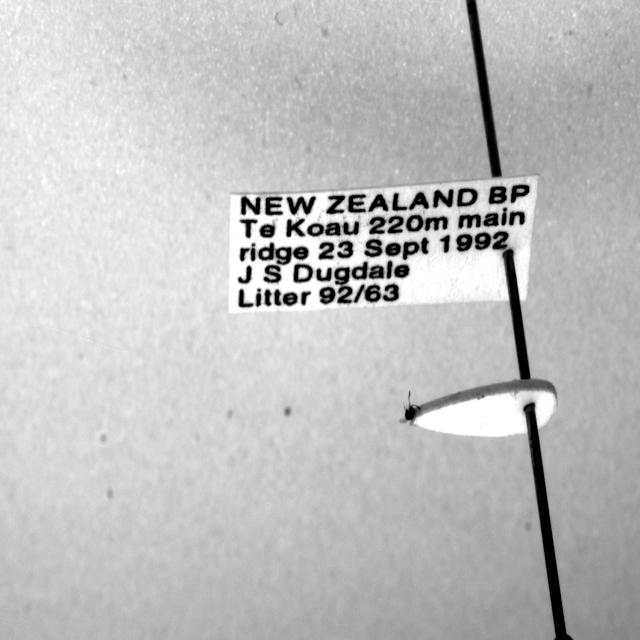typed_label: (229, 174, 539, 313)
